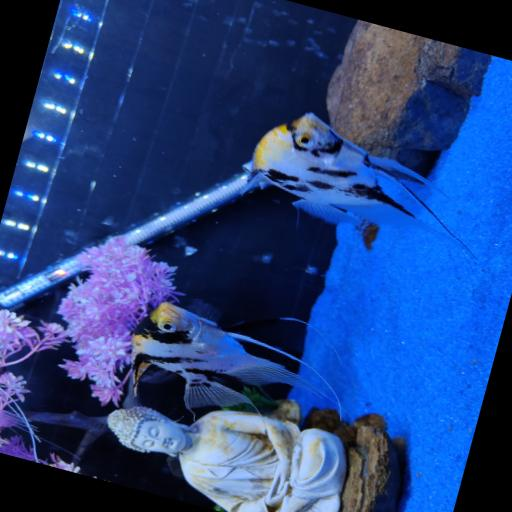Fish: (248, 113, 471, 255), (132, 302, 321, 409), (0, 409, 27, 430)
